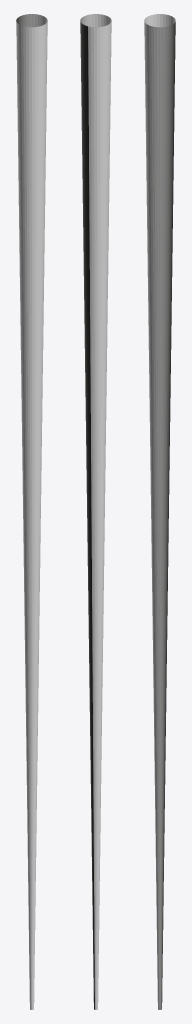
The model's file is LampConcert.fbx.
The picture shows the model from 3 angles, left to right: view 1: azimuth 90°, elevation 25°; view 2: azimuth 150°, elevation 25°; view 3: azimuth 270°, elevation 25°; orthographic projection.
Parts seen in each view (by area): view 1: Cylinder; view 2: Cylinder; view 3: Cylinder.
Boxes of the visible parts, x1=… form: Cylinder: x1=16, y1=14, x2=47, y2=1009; Cylinder: x1=80, y1=14, x2=111, y2=1009; Cylinder: x1=144, y1=14, x2=175, y2=1009.
Bounding box in the file's own units: 54.49 × 1892 × 54.49.
